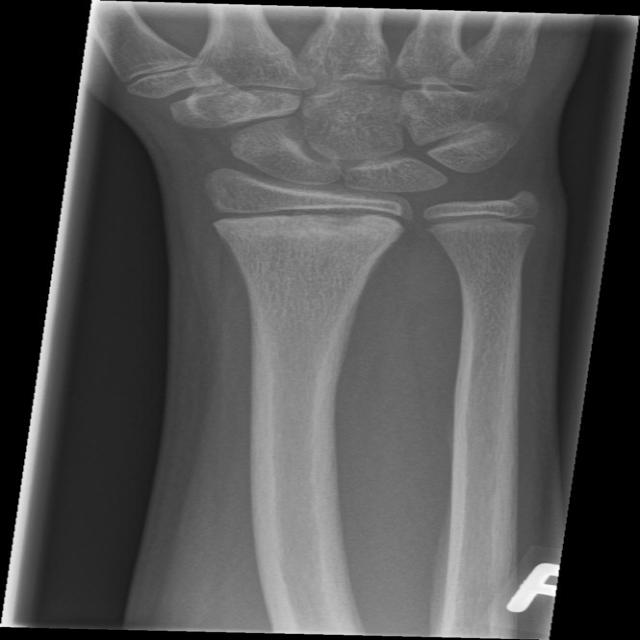fracture: (192, 187, 419, 246), (401, 203, 560, 240)
